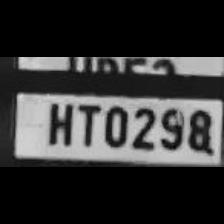0: (99, 100, 129, 150)
2: (127, 102, 156, 152)
8: (183, 105, 215, 155)
9: (155, 104, 184, 152)
H: (41, 96, 76, 146)
T: (72, 99, 100, 148)
